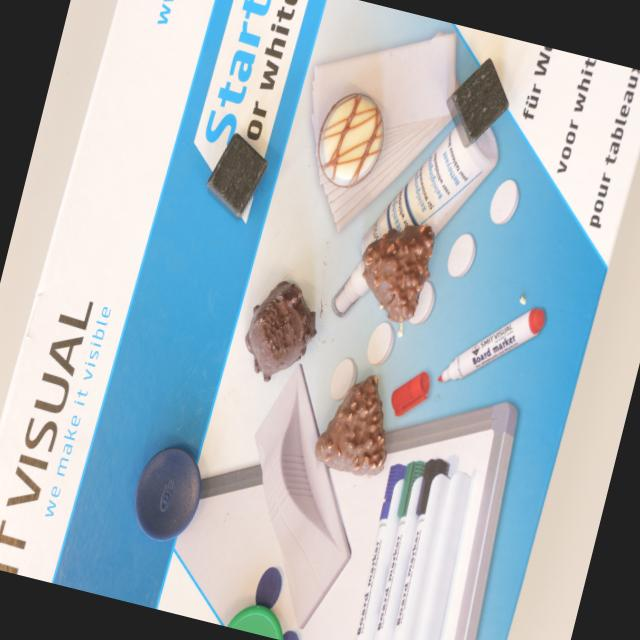Creme_brulee: (309, 86, 393, 193)
Tentation_noir: (238, 273, 326, 384)
Triangolo: (312, 362, 404, 481), (348, 212, 439, 328)
